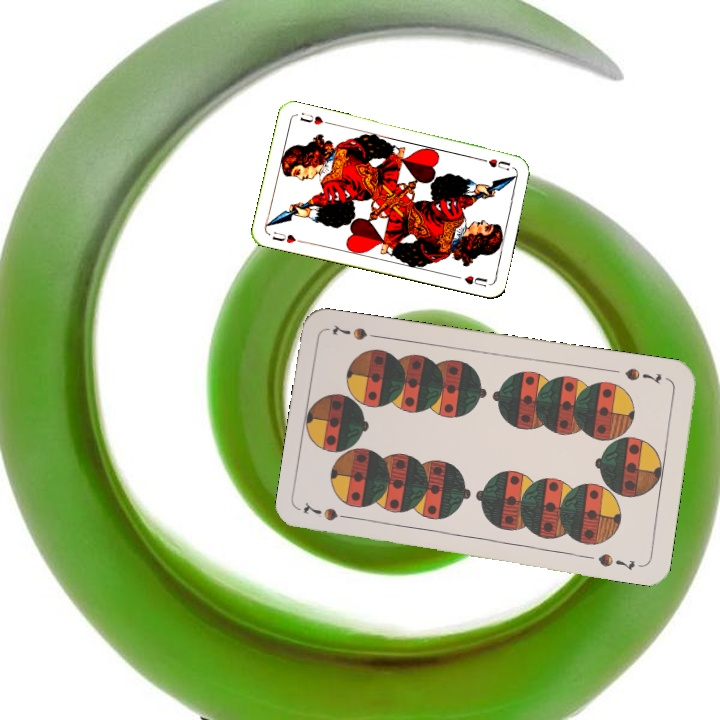HU: (268, 227, 306, 246), (484, 155, 513, 173)
S7: (299, 500, 358, 524), (620, 364, 665, 387)
